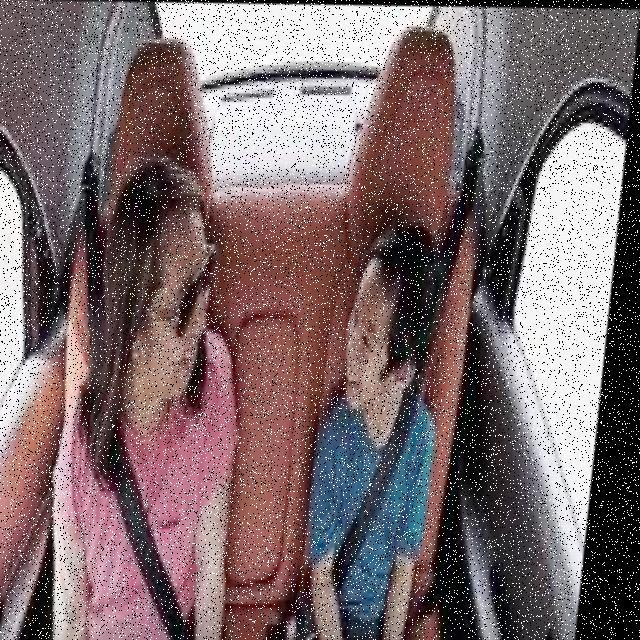seatbelt: (79, 397, 226, 640), (323, 410, 439, 640)
